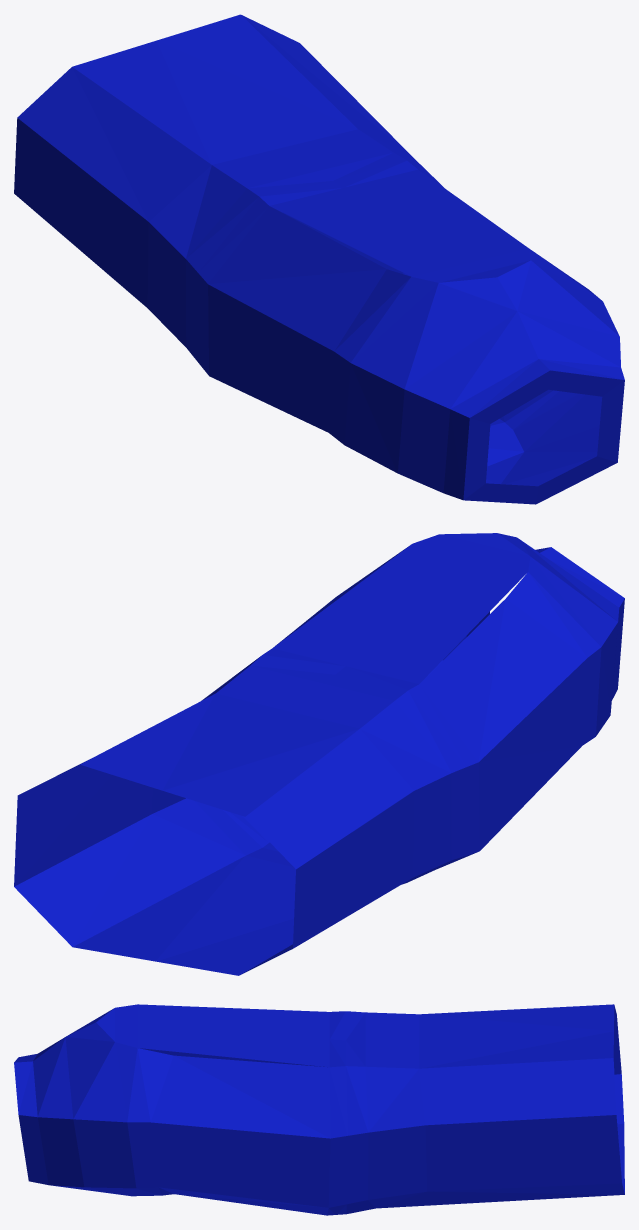
Rendered from maxiskirt.obj.
3 views of the same model, one above another, from view 1: azimuth 30°, elevation 25°; view 2: azimuth 150°, elevation 25°; view 3: azimuth 270°, elevation 25° (orthographic). The views are drawn at different scales.
Visible parts, largest first — view 1: pants6; view 2: pants6; view 3: pants6.
Boxes of the visible parts, box(x1,y1,x2,y2) form: pants6: box(14, 14, 624, 504); pants6: box(14, 533, 624, 975); pants6: box(14, 1004, 624, 1215).
Size of the model in its own units: 2.46 by 1.81 by 6.05.
